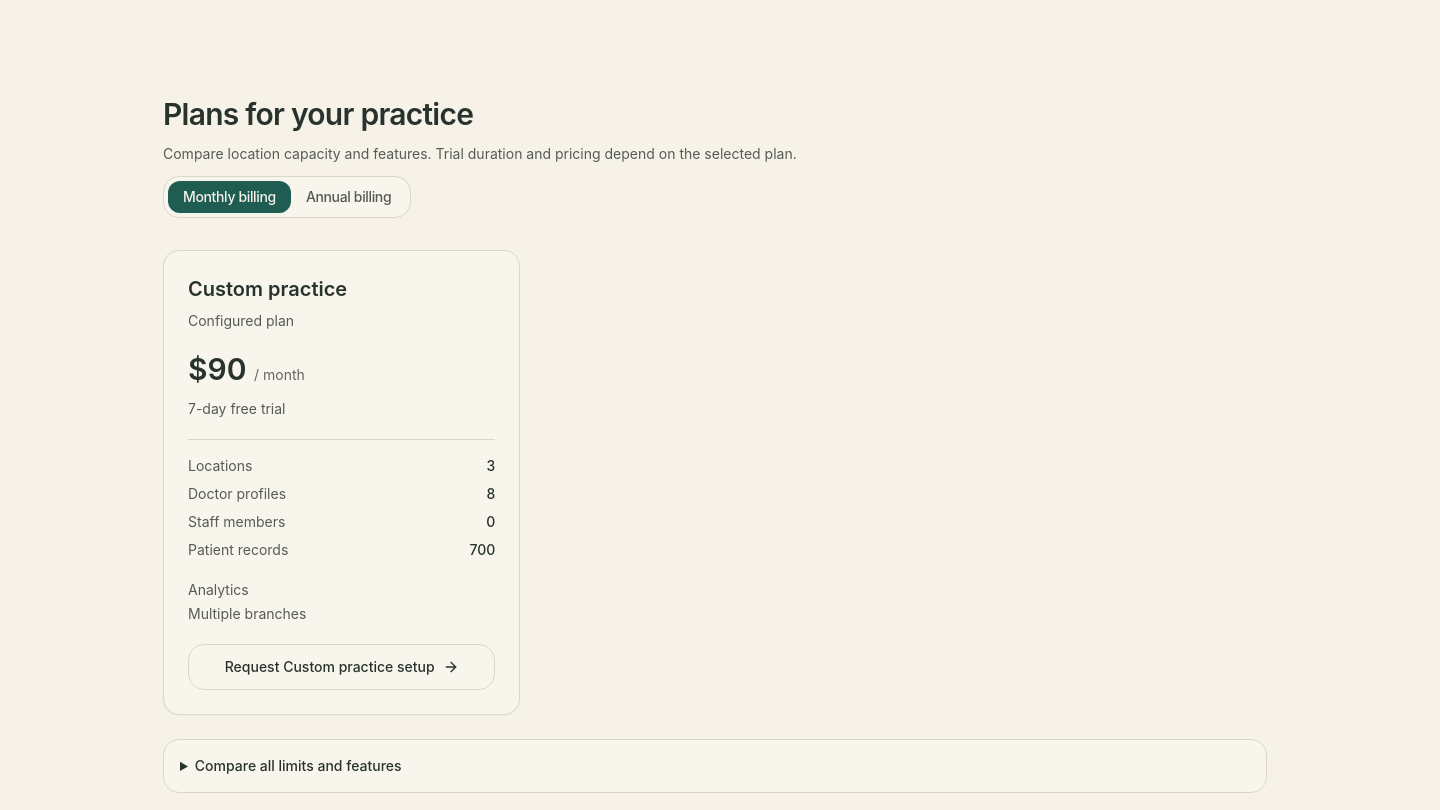
Test: Configured public plans › shows configured trial, currency and capacities without fixed promotional claims
Check: the heading "Custom practice" is shown, box x1=188 y1=275 x2=347 y2=303
Check: the text "7-day free trial" is shown, box x1=188 y1=400 x2=286 y2=417
Click the button "Annual billing" at (349, 197), box x1=291 y1=181 x2=406 y2=213
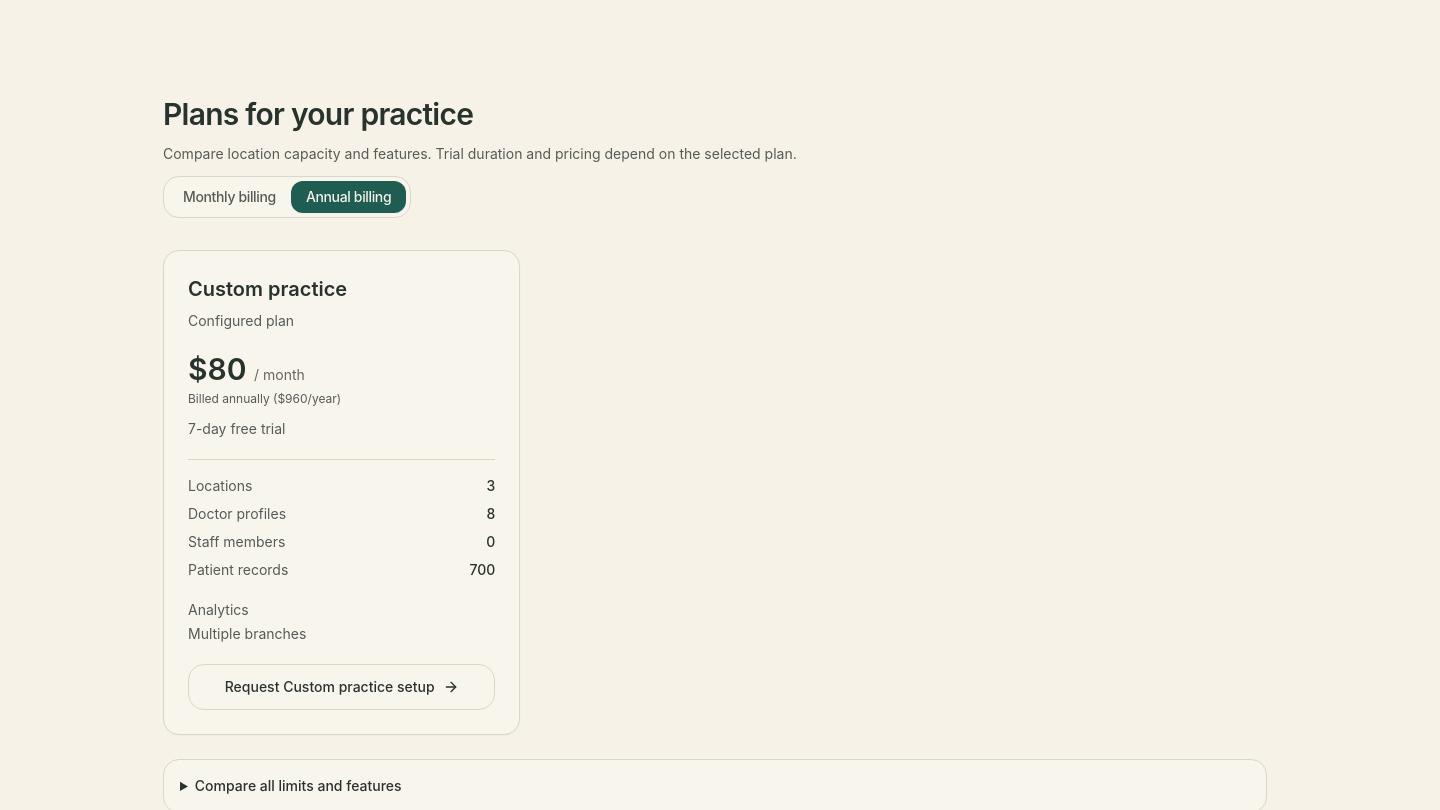
Check: the text "$80" is shown, box x1=188 y1=351 x2=246 y2=387
